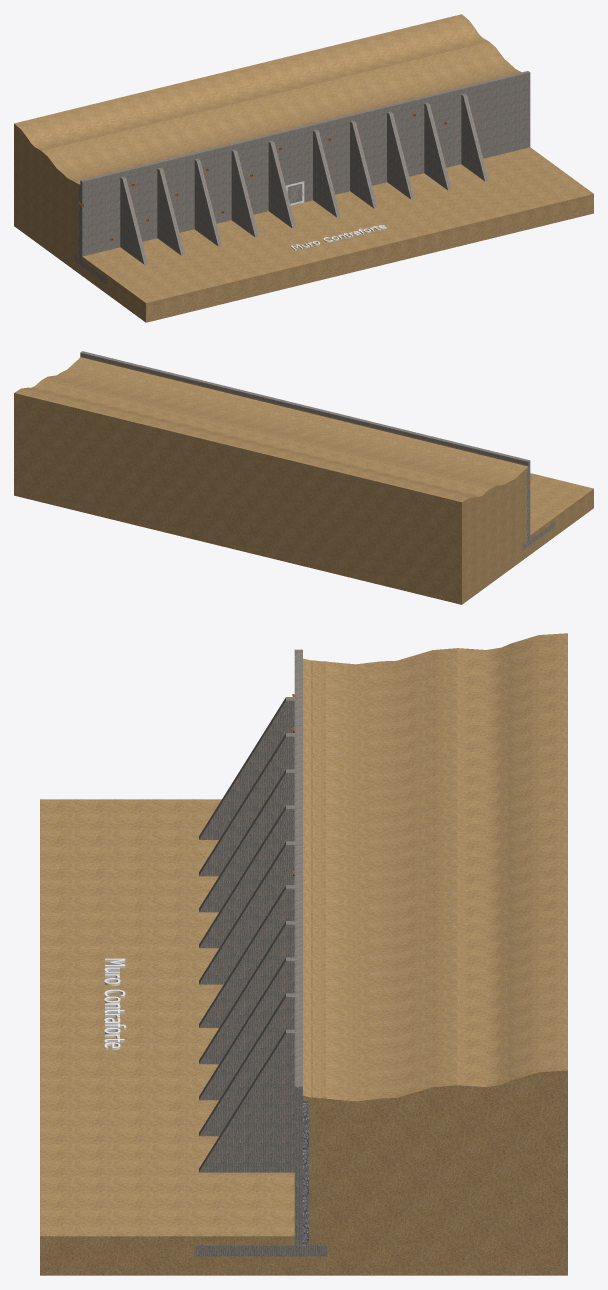
Rendered from MuroContraforte.dae.
3 views of the same model, one above another, from view 1: azimuth 30°, elevation 25°; view 2: azimuth 150°, elevation 25°; view 3: azimuth 270°, elevation 25° (orthographic). The views are drawn at different scales.
Parts seen in each view (by area): view 1: Componente_2 (×3), Escora (×10); view 2: Componente_2 (×2); view 3: Componente_2 (×4), Escora (×10).
Part boxes in pixels (x1,y1,x2,y2): Componente_2 (×3): [14, 14, 593, 322]; Escora (×10): [120, 93, 488, 264]; Componente_2 (×2): [14, 351, 593, 604]; Componente_2 (×4): [40, 633, 567, 1275]; Escora (×10): [199, 697, 294, 1172].
Size of the model in its own units: 476 by 243 by 104.
Materials: 6 (4 with a texture image).
